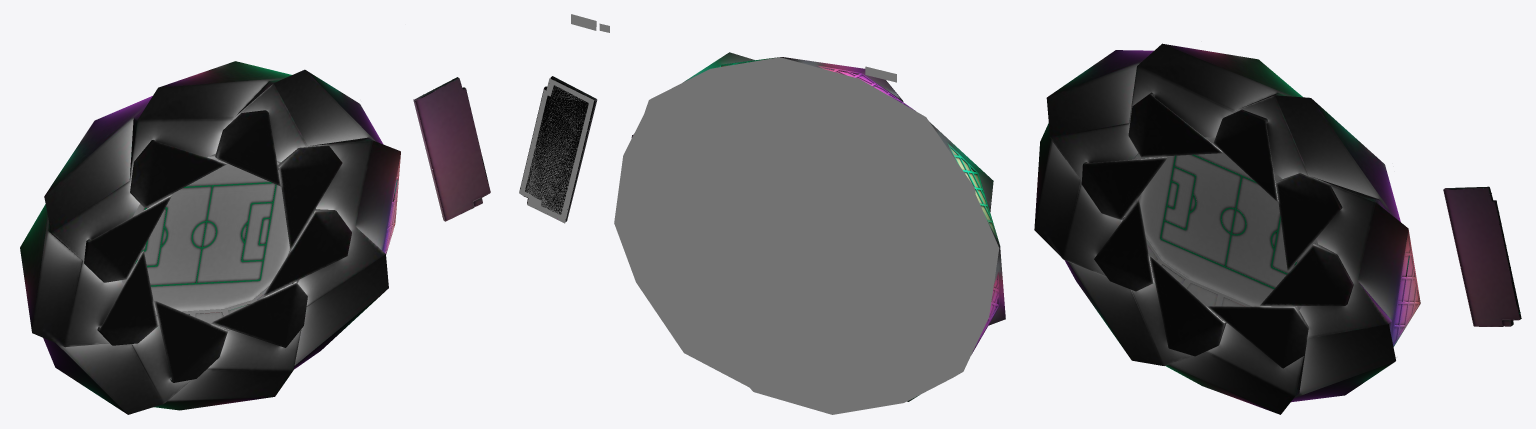
The picture shows the model from 3 angles, left to right: view 1: azimuth 30°, elevation 25°; view 2: azimuth 150°, elevation 25°; view 3: azimuth 330°, elevation 25°; orthographic projection.
Size of the model in its own units: 1512 by 1071 by 91.34.
Materials: 1 (1 with a texture image).
